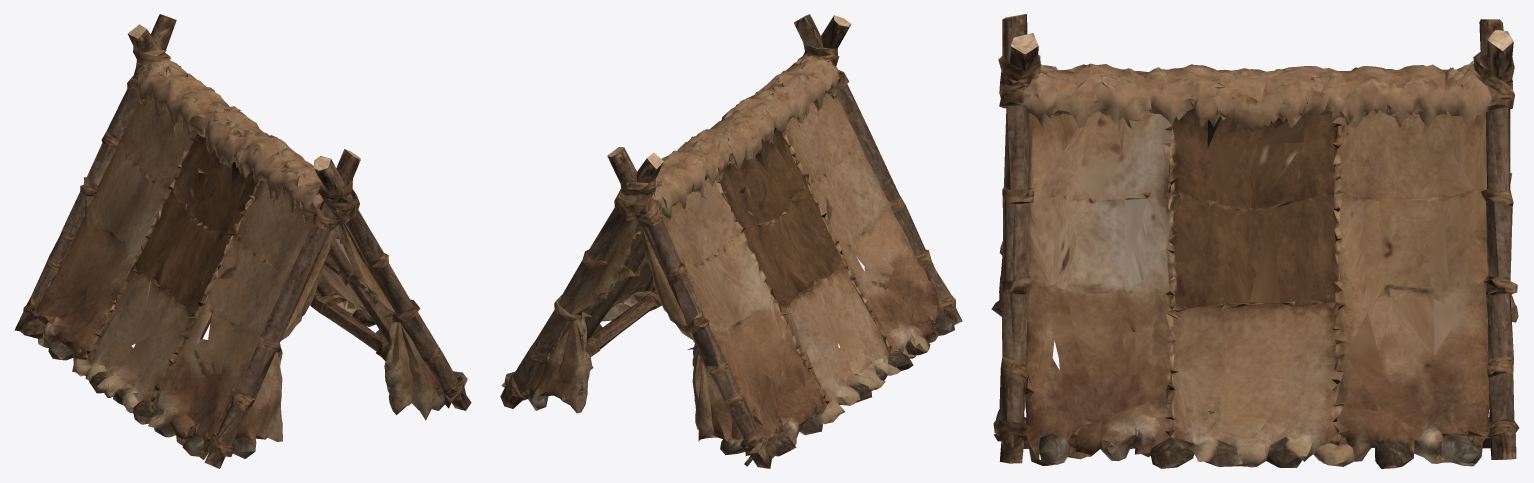
3 views of the same model, side by side, from view 1: azimuth 30°, elevation 25°; view 2: azimuth 150°, elevation 25°; view 3: azimuth 270°, elevation 25° (orthographic). The views are drawn at different scales.
Parts seen in each view (by area): view 1: HideTent; view 2: HideTent; view 3: HideTent.
Part boxes in pixels (bbox=[...]): HideTent: bbox=[15, 14, 471, 468]; HideTent: bbox=[500, 14, 962, 468]; HideTent: bbox=[991, 14, 1519, 468].
Bounding box in the file's own units: 3.5 × 3.17 × 4.17.
Materials: 1 (1 with a texture image).
